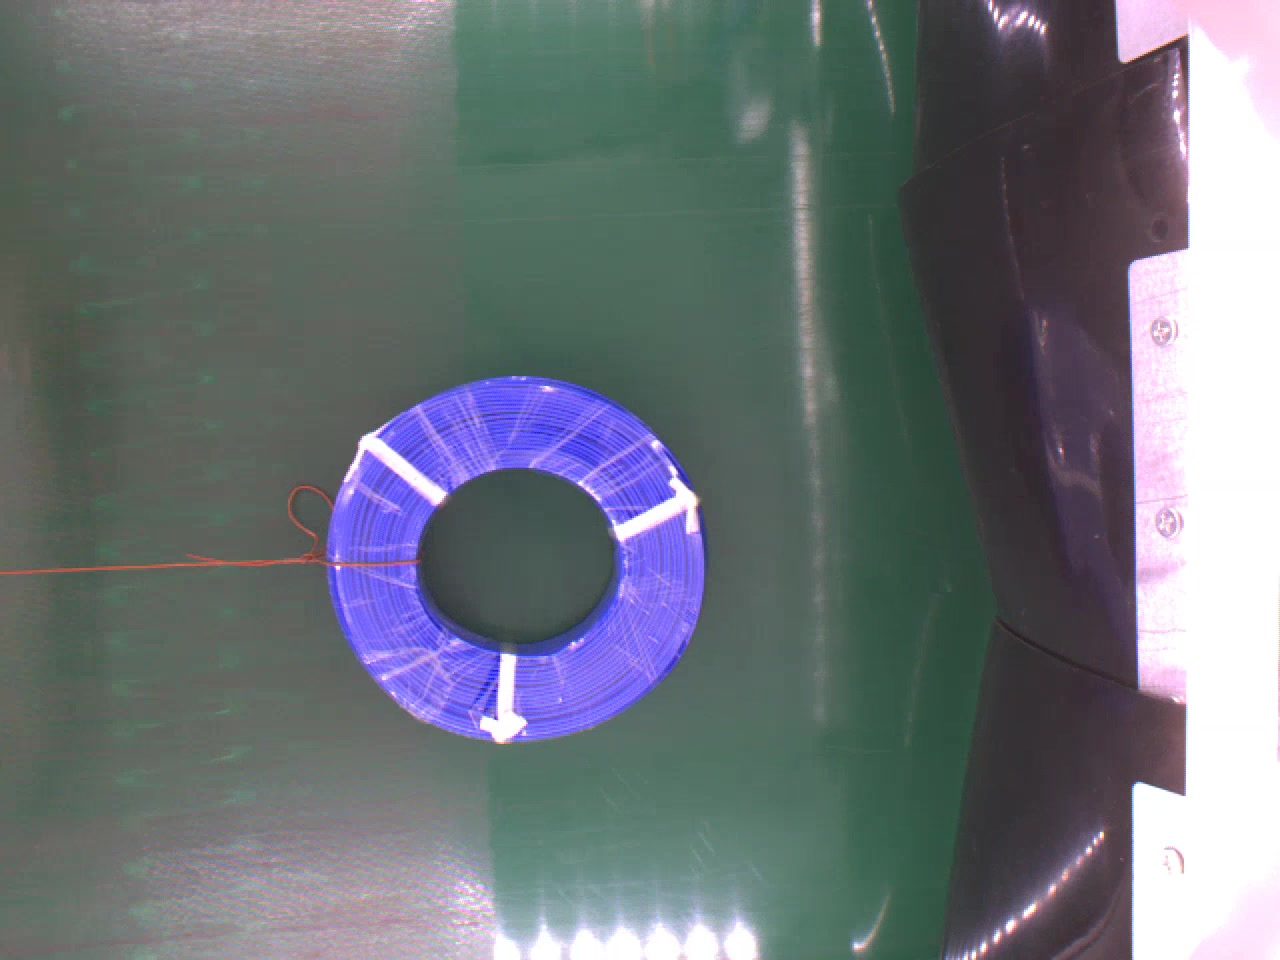blue: (324, 374, 703, 748)
